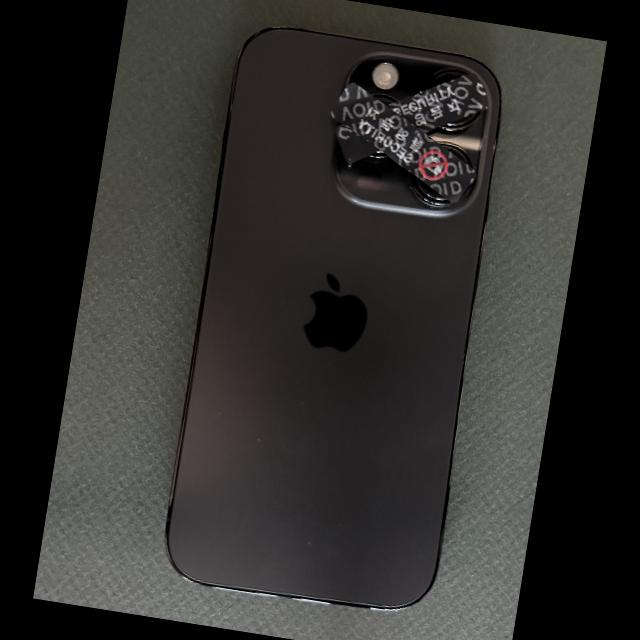lens: (408, 174, 451, 207), (424, 68, 465, 90), (372, 94, 395, 105)
phone: (166, 29, 499, 608)
sticker: (330, 82, 477, 203), (386, 73, 487, 133)
